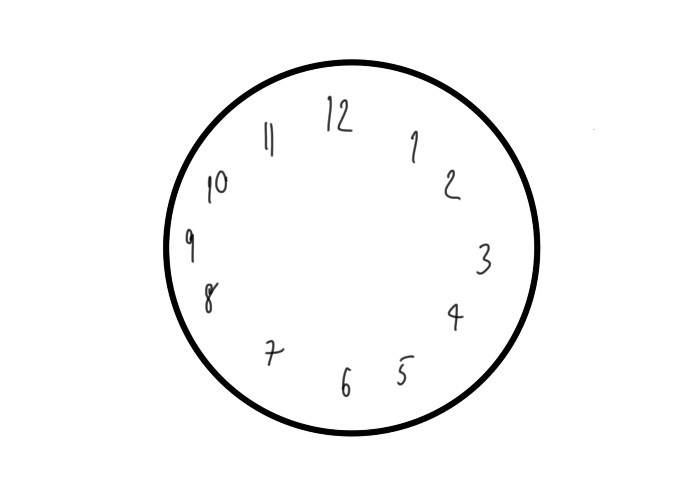eight: (201, 280, 219, 316)
eleven: (259, 118, 279, 158)
five: (396, 353, 414, 389)
four: (446, 301, 466, 334)
nine: (183, 225, 201, 266)
one: (408, 124, 420, 168)
seven: (262, 338, 285, 371)
six: (339, 363, 354, 400)
ten: (204, 168, 228, 207)
three: (477, 239, 494, 280)
twelve: (324, 91, 354, 135)
two: (440, 166, 462, 203)
